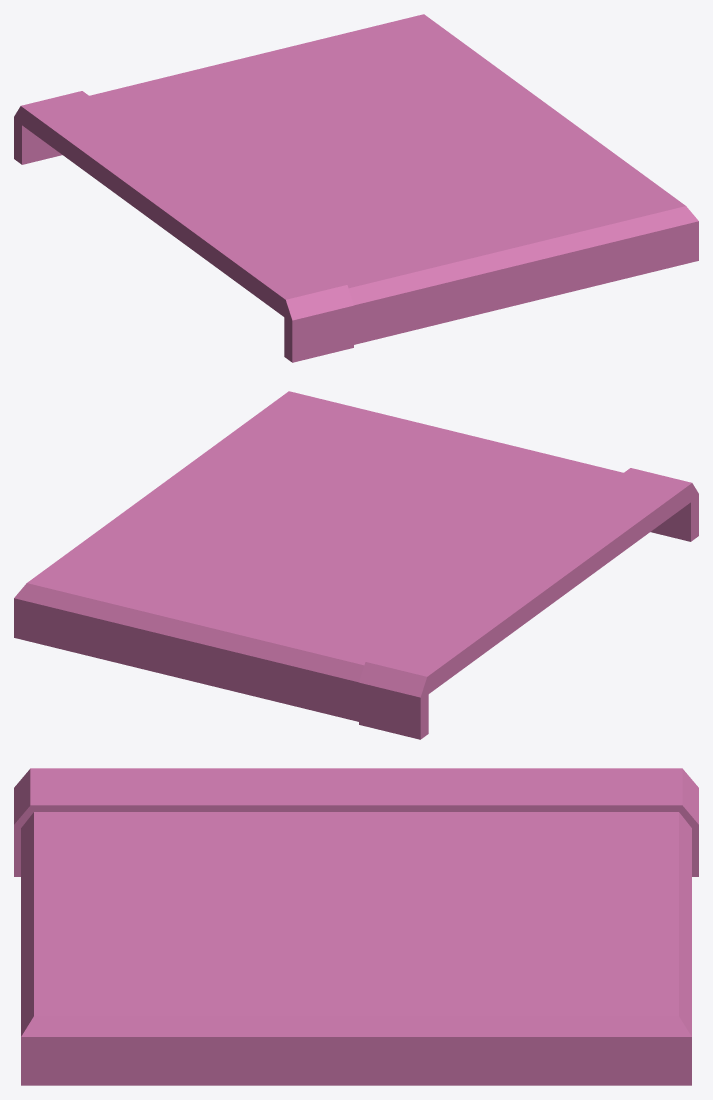
Rendered from Hazard_Blanket_Couch.glb.
3 views of the same model, one above another, from view 1: azimuth 30°, elevation 25°; view 2: azimuth 150°, elevation 25°; view 3: azimuth 270°, elevation 25° (orthographic). The views are drawn at different scales.
Visible parts, largest first — view 1: Hazard_Blanket_Couch; view 2: Hazard_Blanket_Couch; view 3: Hazard_Blanket_Couch.
Boxes of the visible parts, x1,y1,x2,y2 form: Hazard_Blanket_Couch: (14, 14, 698, 362); Hazard_Blanket_Couch: (14, 391, 698, 739); Hazard_Blanket_Couch: (14, 768, 698, 1085).
Size of the model in its own units: 0.8116 by 0.11 by 0.956.
